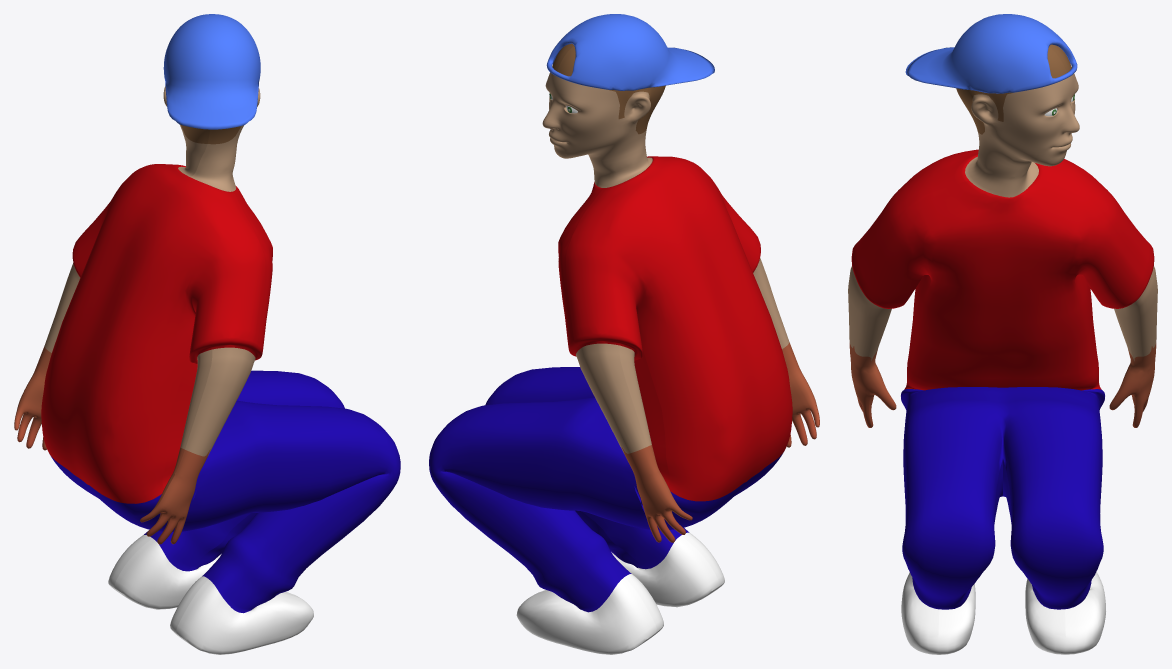
Rendered from PersonajePoseAgachado2.fbx.
3 views of the same model, side by side, from view 1: azimuth 30°, elevation 25°; view 2: azimuth 150°, elevation 25°; view 3: azimuth 270°, elevation 25° (orthographic). The views are drawn at different scales.
Visible parts, largest first — view 1: Cuerpo completo smooth.002; view 2: Cuerpo completo smooth.002; view 3: Cuerpo completo smooth.002.
Boxes of the visible parts, x1,y1,x2,y2 form: Cuerpo completo smooth.002: (14,14,400,654); Cuerpo completo smooth.002: (429,14,819,654); Cuerpo completo smooth.002: (848,14,1157,654).
Bounding box in the file's own units: 58.28 × 112 × 51.36.
